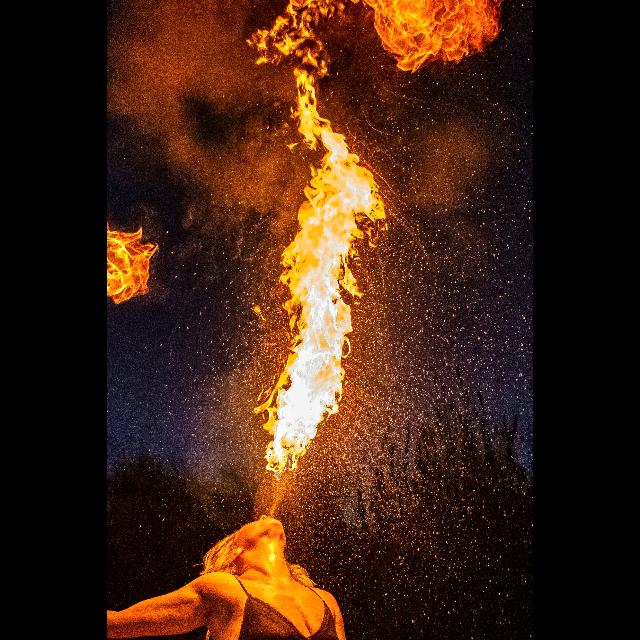fire: (251, 0, 505, 472)
